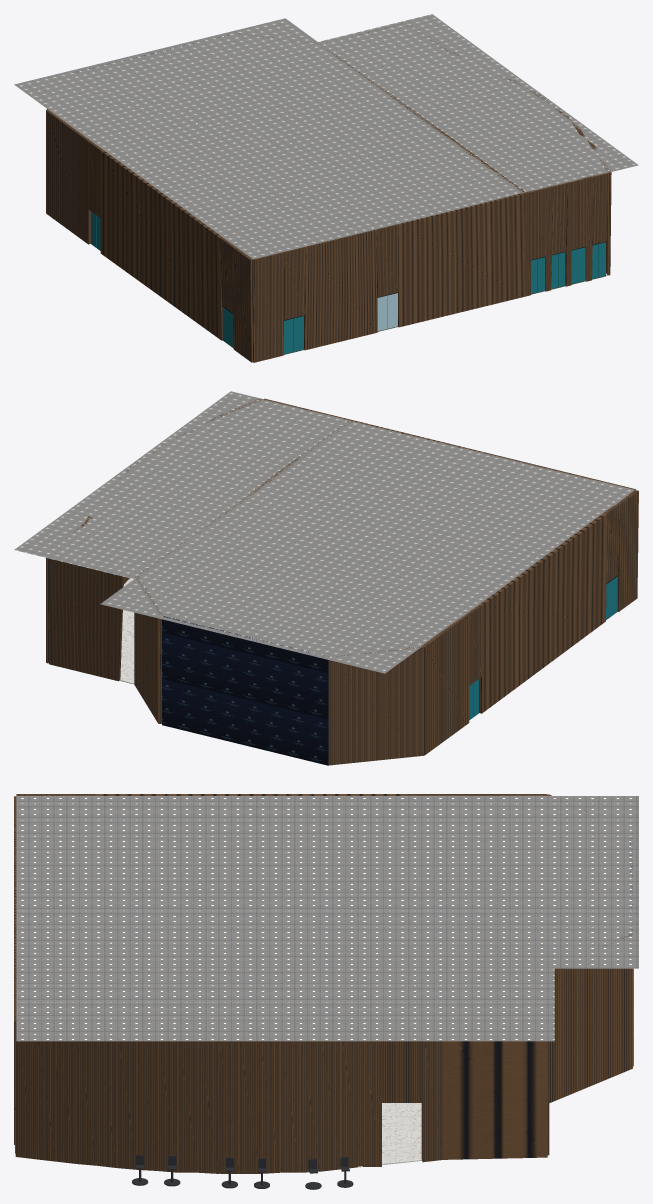
The model's file is diplomatic_hall.glb.
3 renders of one model, top to bottom at view 1: azimuth 30°, elevation 25°; view 2: azimuth 150°, elevation 25°; view 3: azimuth 270°, elevation 25°, orthographic. The views are drawn at different scales.
Visible parts, largest first — view 1: Venue_Ceiling, Venue_Walls, Door_Leaves; view 2: Venue_Ceiling, Venue_Walls, Corridor_Floor, Door_Leaves; view 3: Venue_Ceiling, Venue_Walls, Corridor_Floor.
Boxes of the visible parts, x1,y1,x2,y2 form: Venue_Ceiling: (14, 14, 638, 259); Venue_Walls: (46, 24, 611, 362); Door_Leaves: (91, 211, 606, 354); Venue_Ceiling: (14, 391, 635, 673); Venue_Walls: (46, 398, 638, 765); Corridor_Floor: (48, 578, 134, 684); Door_Leaves: (469, 575, 617, 719); Venue_Ceiling: (16, 796, 638, 1041); Venue_Walls: (14, 794, 633, 1173); Corridor_Floor: (358, 1103, 421, 1167).
Size of the model in its own units: 28.68 by 7.31 by 29.6.
Materials: 43 (7 with a texture image).
